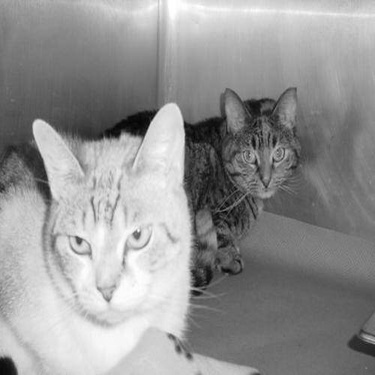cat: (2, 100, 233, 368), (85, 84, 299, 300)
